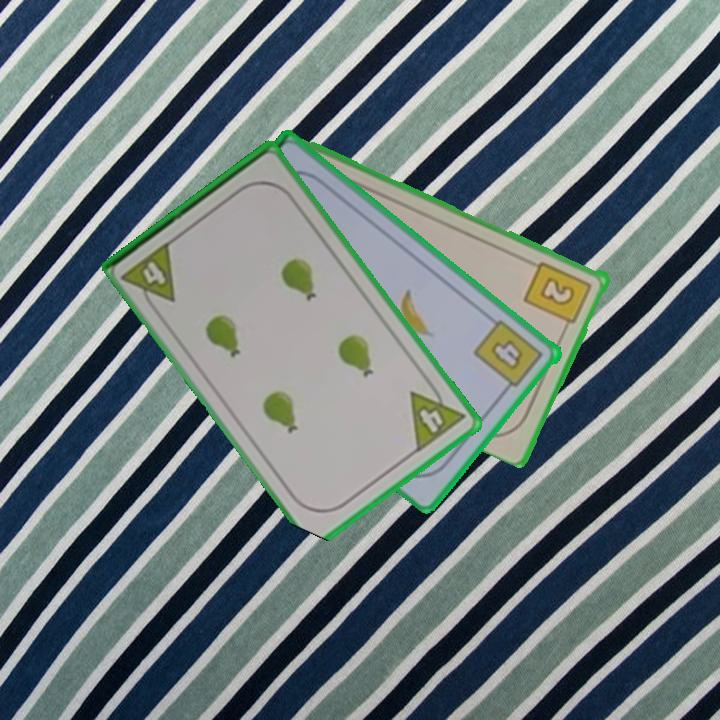2b: (521, 257, 595, 334)
4b: (470, 316, 547, 397)
4p: (406, 375, 468, 455), (119, 237, 179, 316)
